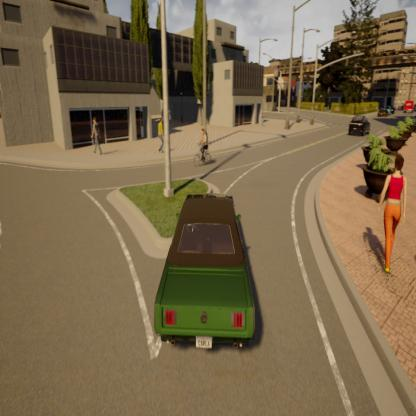Cars: (154, 194, 254, 350), (194, 126, 213, 172), (349, 115, 371, 137)
Pedestrian: (380, 153, 407, 276), (89, 116, 102, 158), (156, 117, 166, 156)
